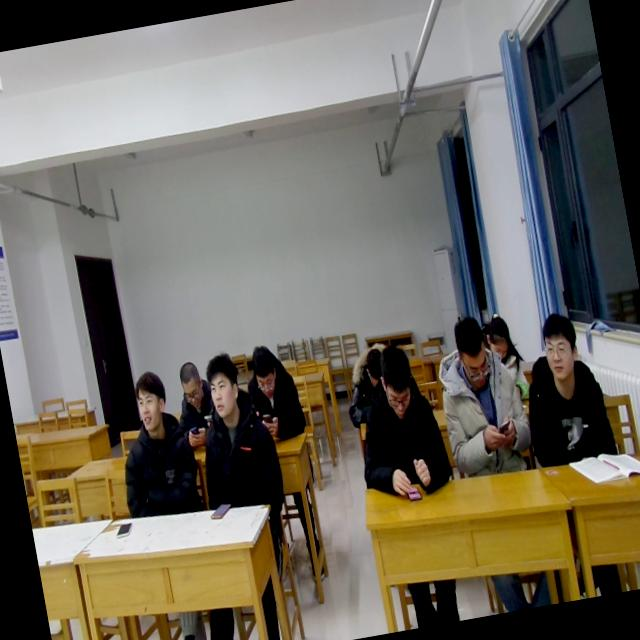bow: (238, 334, 310, 448), (336, 341, 402, 429)
down: (373, 338, 425, 426), (446, 309, 494, 394), (246, 337, 284, 402), (480, 302, 516, 365), (172, 355, 208, 414), (357, 340, 387, 386)
lookup: (533, 304, 585, 384), (199, 347, 249, 429), (128, 363, 172, 435)
sit: (426, 307, 538, 480), (342, 337, 456, 500), (180, 342, 288, 514), (509, 304, 619, 472), (104, 363, 204, 522), (476, 306, 534, 406), (168, 356, 224, 450)
